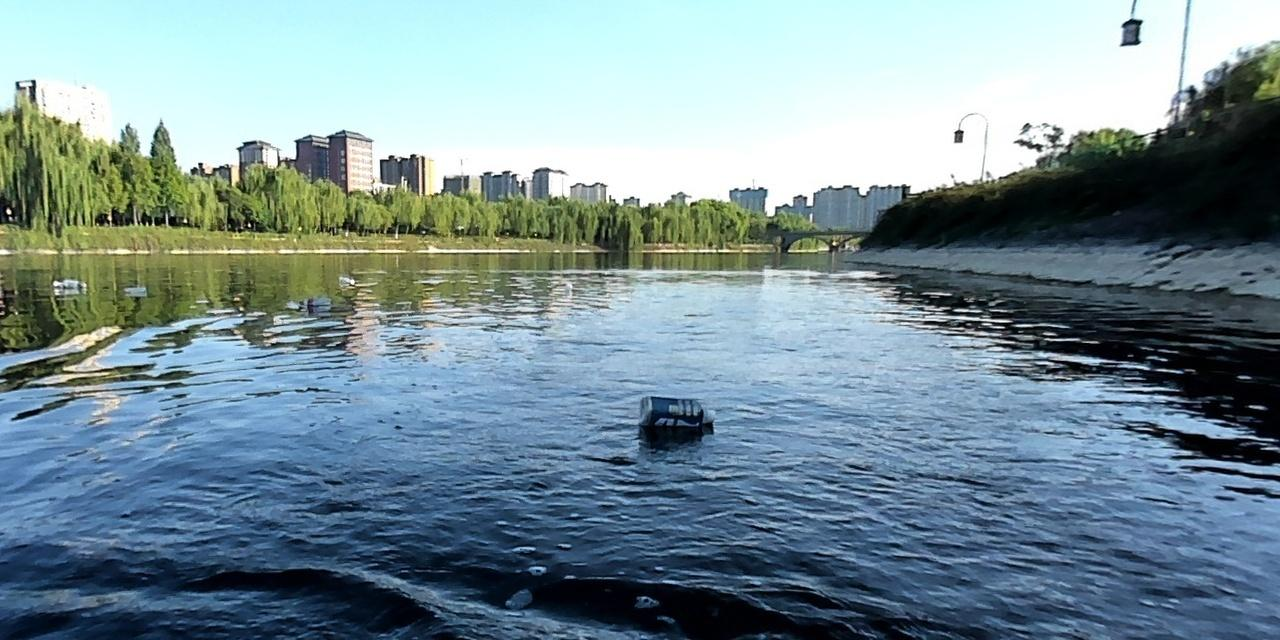bottle: (633, 391, 720, 431), (294, 295, 335, 309), (48, 275, 89, 289), (113, 284, 152, 298), (334, 273, 357, 287)
